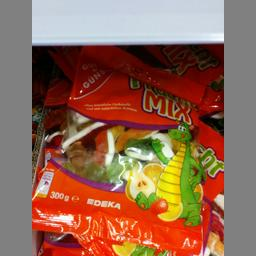candy: (40, 46, 199, 244)
